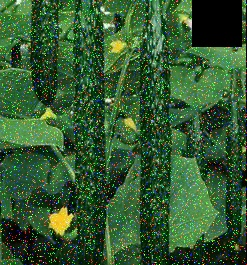cucumber: (73, 8, 105, 261), (142, 12, 167, 264), (29, 1, 58, 102), (226, 118, 246, 244)
cucumber_plant: (3, 156, 69, 235)
